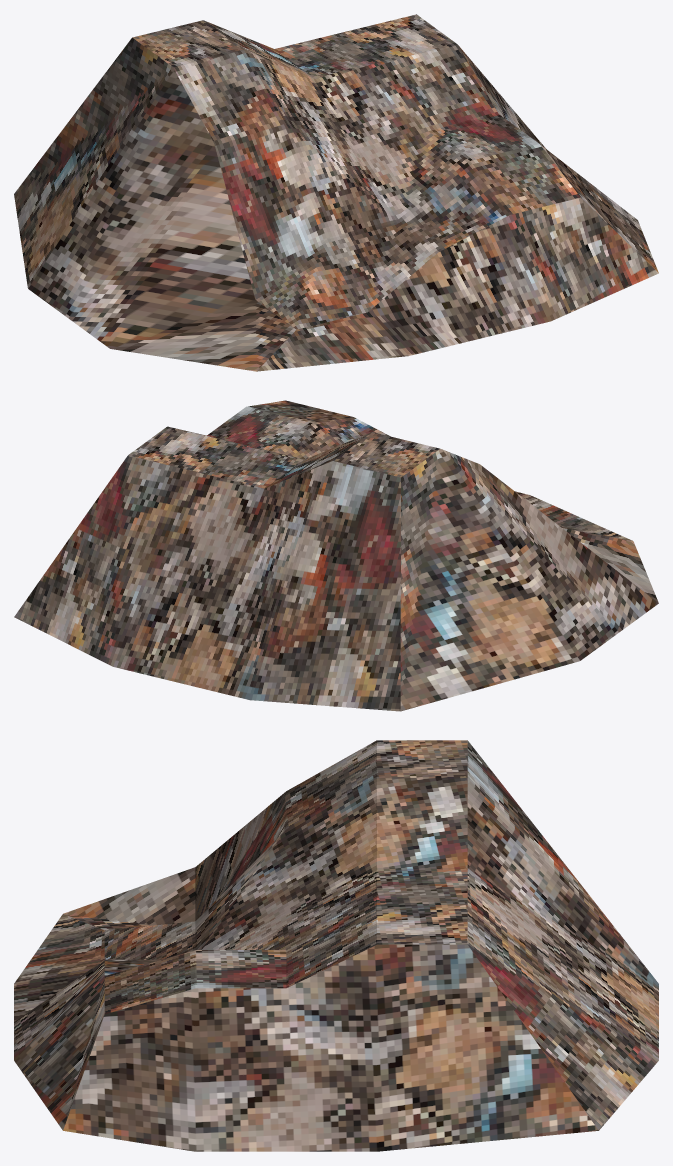
File: Basura.fbx
3 views of the same model, one above another, from view 1: azimuth 30°, elevation 25°; view 2: azimuth 150°, elevation 25°; view 3: azimuth 270°, elevation 25° (orthographic). The views are drawn at different scales.
Visible parts, largest first — view 1: pCube2; view 2: pCube2; view 3: pCube2.
Part boxes in pixels (x1,y1,x2,y2): pCube2: (14, 14, 658, 371); pCube2: (14, 400, 658, 711); pCube2: (14, 740, 658, 1151).
Size of the model in its own units: 189 by 63.65 by 181.
